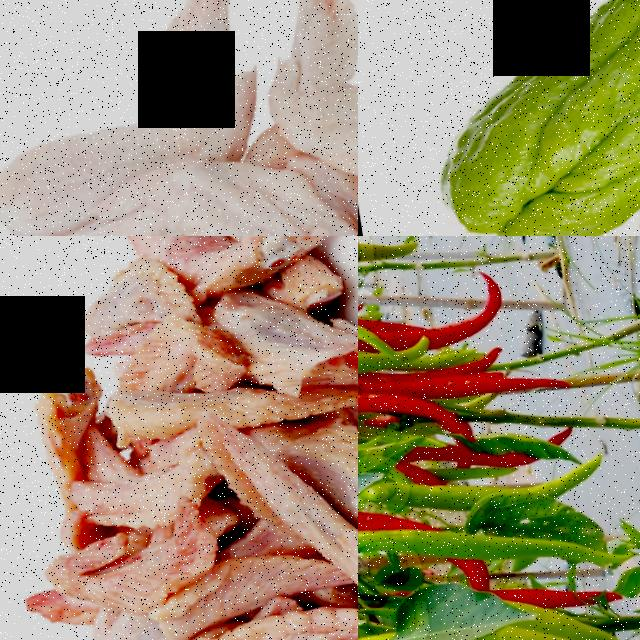chayote: (361, 0, 640, 236)
chicken wing: (0, 0, 275, 236), (241, 0, 358, 236)
chilli: (358, 498, 571, 580), (415, 256, 511, 347), (358, 464, 497, 517), (429, 357, 572, 403), (358, 376, 440, 429), (358, 236, 420, 271)
